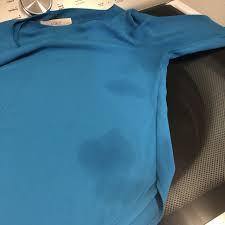oil: (80, 134, 145, 205), (107, 79, 144, 99)
